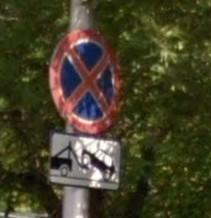No Parking: (49, 29, 125, 136)
